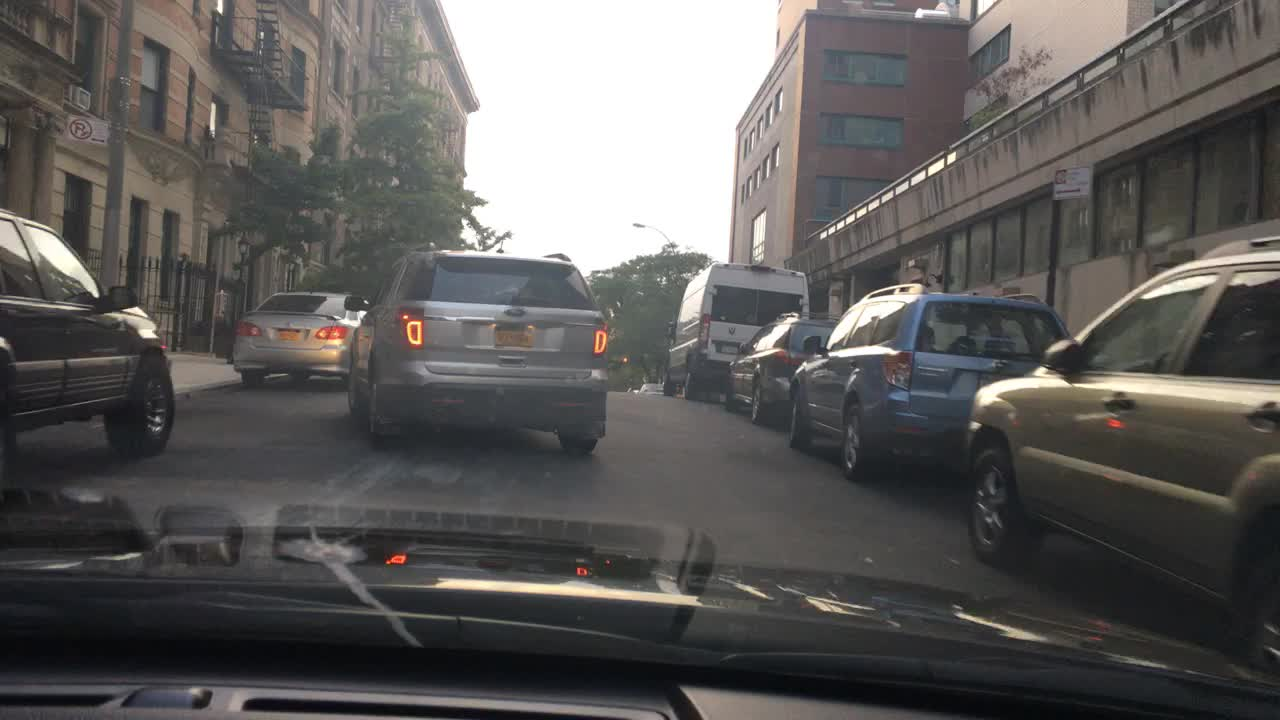car: (964, 233, 1279, 672), (339, 239, 611, 458), (786, 280, 1078, 480), (0, 205, 181, 460), (660, 260, 810, 395), (231, 285, 367, 383), (725, 314, 840, 424)
traffic light: (618, 352, 628, 363)
traffic sign: (1051, 163, 1094, 200), (66, 114, 109, 143)
